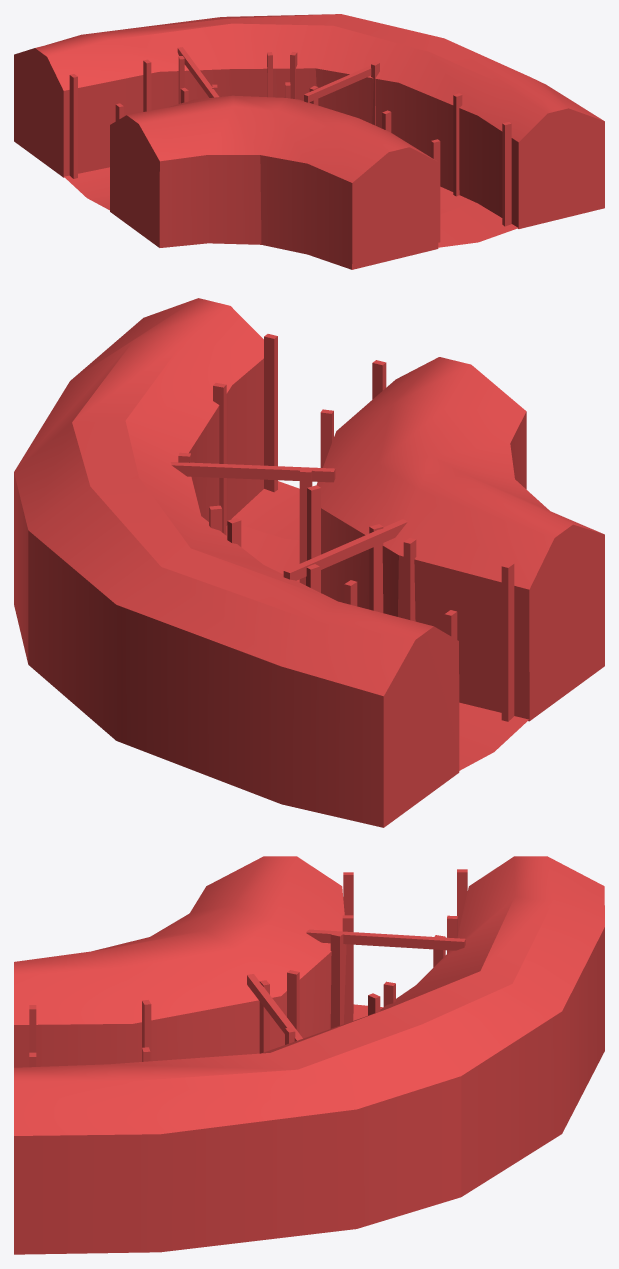
The model's file is Ground_Corner_Wood_COL.fbx.
3 renders of one model, top to bottom at view 1: azimuth 30°, elevation 25°; view 2: azimuth 150°, elevation 25°; view 3: azimuth 270°, elevation 25°, orthographic. The views are drawn at different scales.
Visible parts, largest first — view 1: Ground_Corner_Wood_COL; view 2: Ground_Corner_Wood_COL; view 3: Ground_Corner_Wood_COL.
Boxes of the visible parts, left/top/right/bottom form: Ground_Corner_Wood_COL: left=14, top=14, right=604, bottom=269; Ground_Corner_Wood_COL: left=14, top=298, right=604, bottom=827; Ground_Corner_Wood_COL: left=14, top=856, right=604, bottom=1254.
Size of the model in its own units: 906 by 273 by 905.
